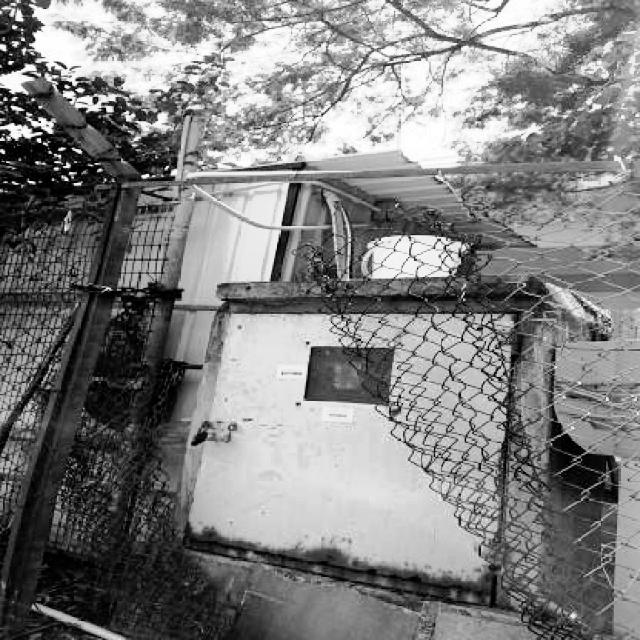anomaly-fence: (8, 122, 626, 640)
